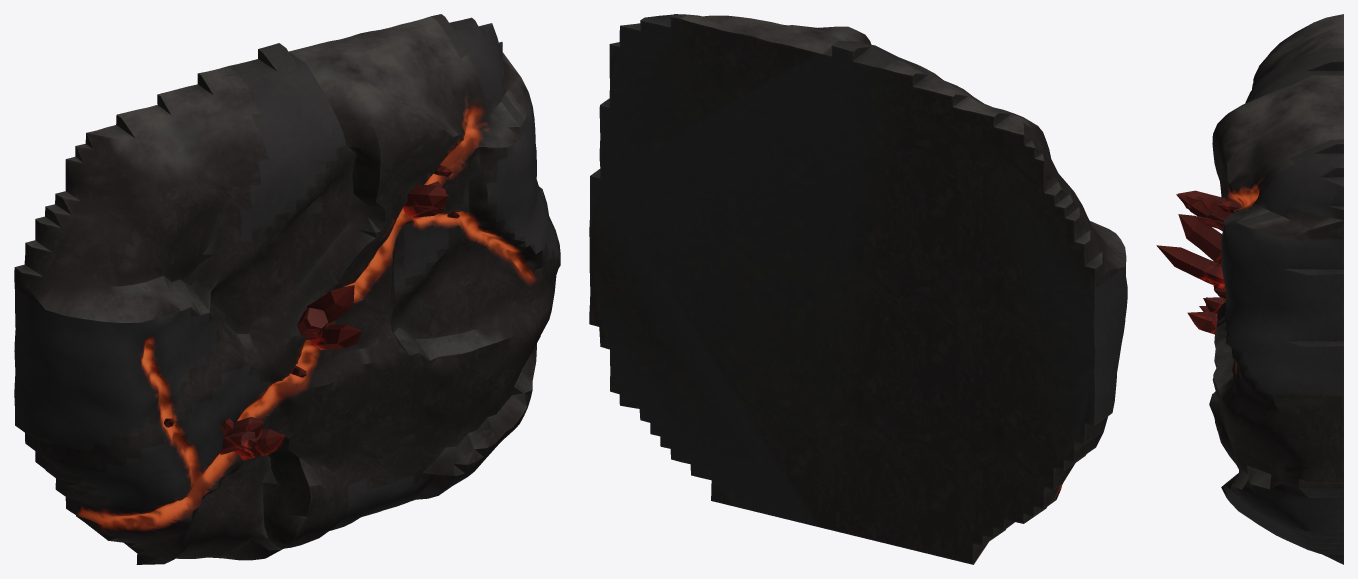
File: b4p_ore_vein_wall.glb
The picture shows the model from 3 angles, left to right: view 1: azimuth 30°, elevation 25°; view 2: azimuth 150°, elevation 25°; view 3: azimuth 270°, elevation 25°; orthographic projection. The views are drawn at different scales.
Visible parts, largest first — view 1: b4p_ore_vein_wall; view 2: b4p_ore_vein_wall; view 3: b4p_ore_vein_wall.
Boxes of the visible parts, x1=… form: b4p_ore_vein_wall: x1=14, y1=14, x2=560, y2=564; b4p_ore_vein_wall: x1=589, y1=14, x2=1127, y2=564; b4p_ore_vein_wall: x1=1156, y1=14, x2=1343, y2=564.
Size of the model in its own units: 2.41 by 2.2 by 0.8345.
Materials: 1 (1 with a texture image).
